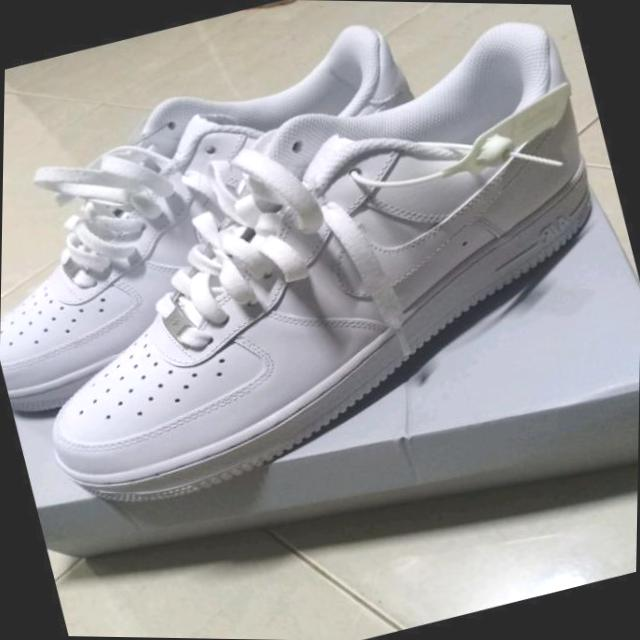nike_original_airforce: (0, 0, 640, 533), (0, 5, 469, 428)
